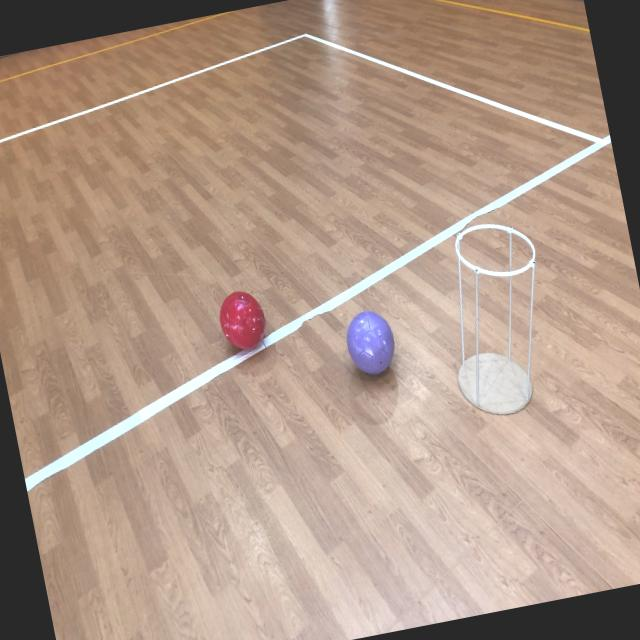purple_ball: (344, 308, 398, 377)
red_ball: (216, 288, 268, 354)
